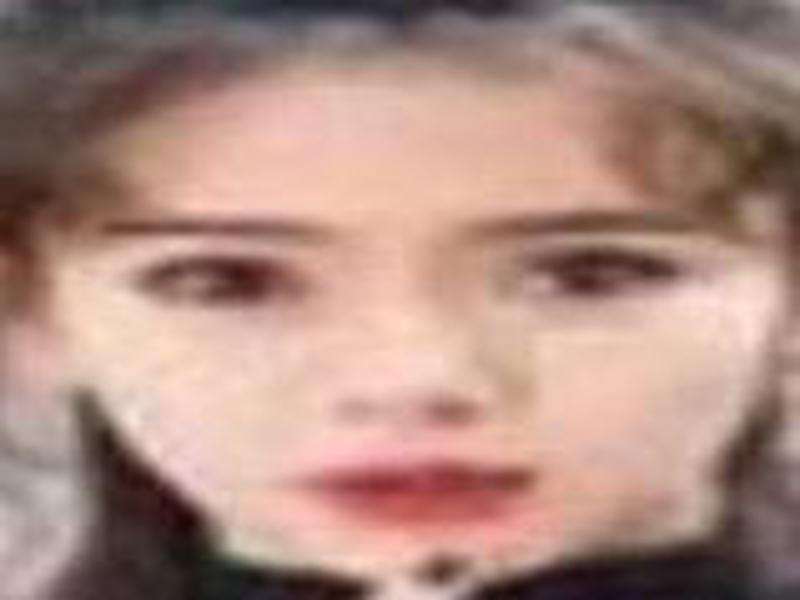without_mask: (65, 116, 763, 553)
